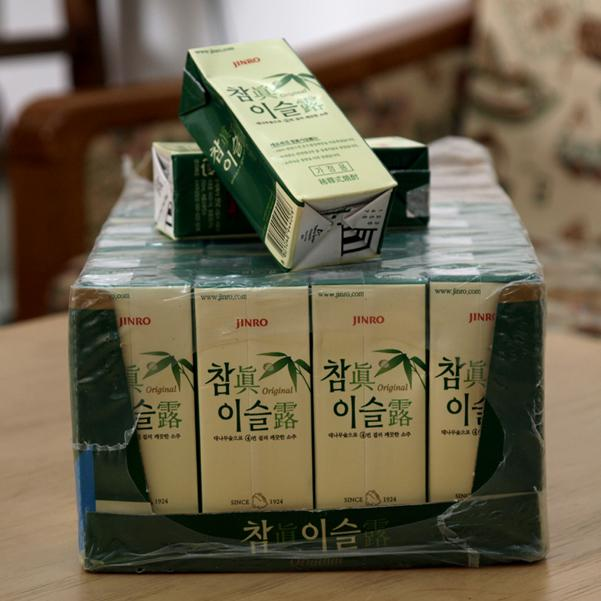soju: (59, 34, 552, 569)
